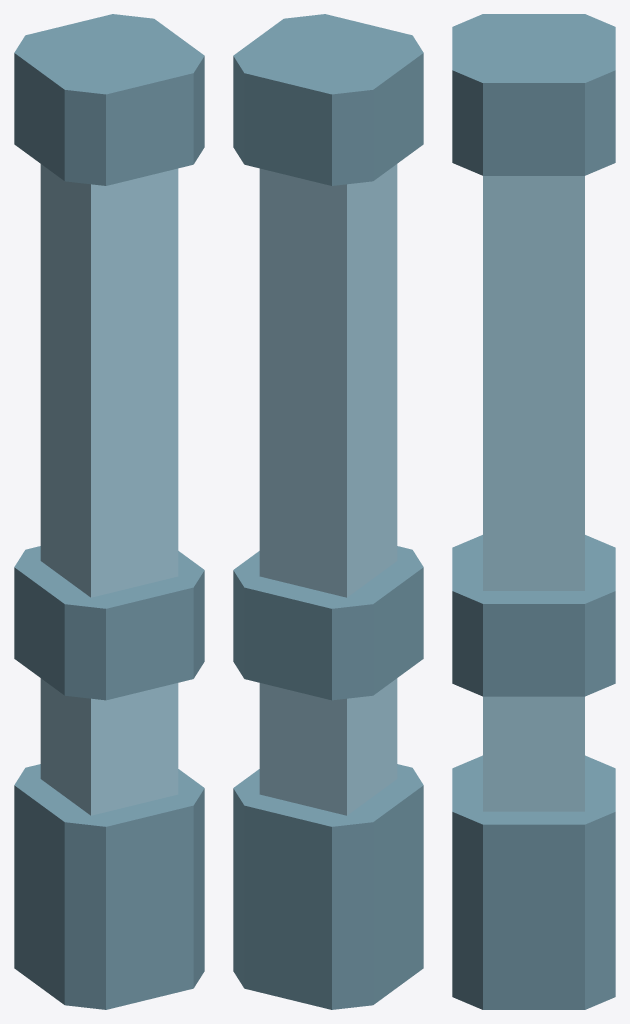
Rendered from pillarStone.glb.
3 renders of one model, left to right at view 1: azimuth 30°, elevation 25°; view 2: azimuth 150°, elevation 25°; view 3: azimuth 270°, elevation 25°, orthographic.
Visible parts, largest first — view 1: pillarStone; view 2: pillarStone; view 3: pillarStone.
Part boxes in pixels (x1=…): pillarStone: x1=14, y1=14, x2=204, y2=1009; pillarStone: x1=233, y1=14, x2=423, y2=1009; pillarStone: x1=452, y1=14, x2=615, y2=1009.
Bounding box in the file's own units: 0.48 × 3 × 0.48.
